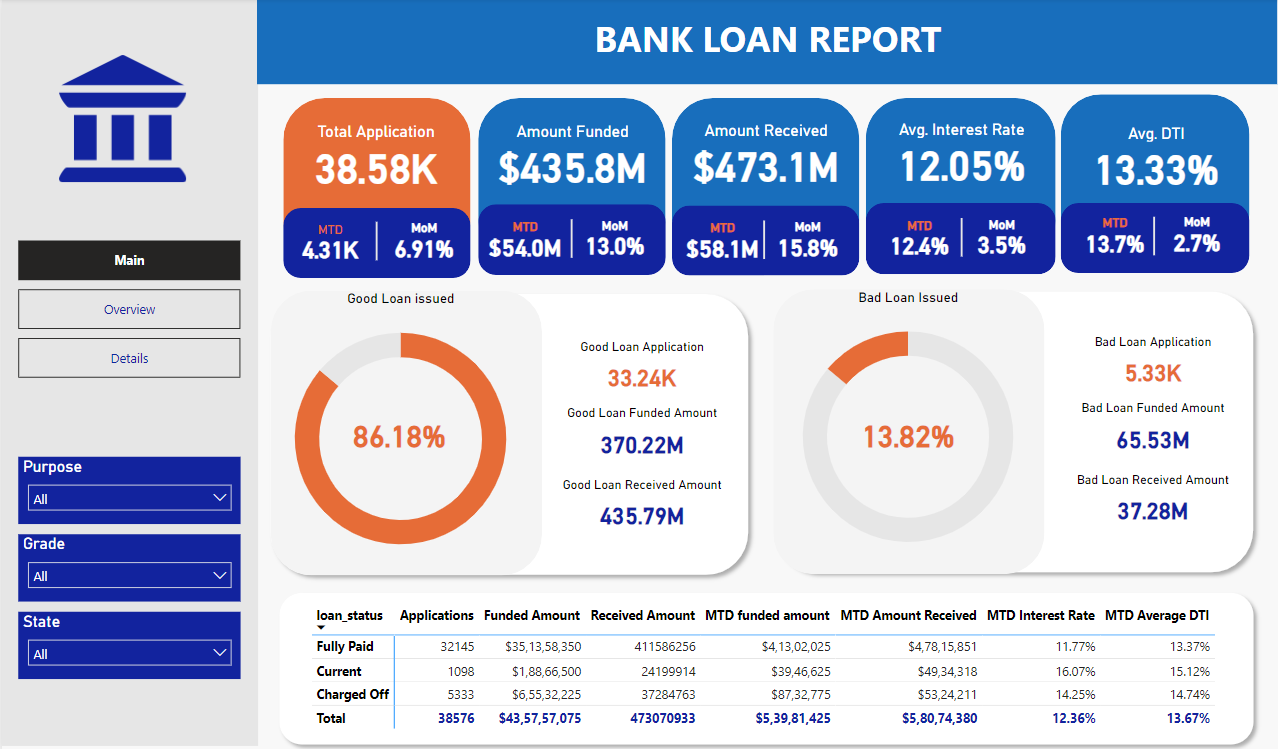

This screenshot's page, from the dashboard's own definition file:
{"tool":"powerbi","page":{"name":"Main","canvas":[1350,800],"ordinal":0},"visuals":[{"type":"shape","box":[809.5,300.8,523.3,315.1],"z":0},{"type":"shape","box":[913.4,105.5,201,171.1],"z":1000},{"type":"shape","box":[815.9,308.1,286.9,301.5],"z":2000},{"type":"shape","box":[1120.2,101.2,199.6,169.7],"z":3000,"group":"g1"},{"type":"shape","box":[913.4,216.7,201,75.6],"z":3000},{"type":"shape","box":[708.5,105.5,198.2,172.5],"z":4000},{"type":"shape","box":[1120.2,216.7,199.6,74.1],"z":5000,"group":"g1"},{"type":"shape","box":[274.8,304.6,523.3,315.1],"z":5000},{"type":"shape","box":[284.3,309.4,286.9,301.5],"z":6000},{"type":"shape","box":[708.5,219.6,198.2,74.1],"z":7000},{"type":"shape","box":[0,0,270.9,791.4],"z":8000},{"type":"shape","box":[270.3,0,1079.4,91.3],"z":9000},{"type":"textbox","box":[601.5,12.5,417.2,63.1],"z":10000},{"type":"shape","box":[503.2,105.5,198.2,172.5],"z":10000,"group":"g2"},{"type":"card","title":"MTD","fields":{"Values":["financial_loan.MTD AMOUNT RECEIVED"]},"box":[718.5,221,88.4,74.1],"z":11000},{"type":"shape","box":[503.2,218.2,198.4,74.9],"z":12000,"group":"g2"},{"type":"shape","box":[284.3,620.2,1048.6,178.5],"z":12000},{"type":"pivotTable","fields":{"Rows":["financial_loan.loan_status"],"Values":["financial_loan.Applications","financial_loan.Funded Amount","financial_loan.Received Amount","financial_loan.MTD funded amount","financial_loan.MTD AMOUNT RECEIVED","financial_loan.MTD INTEREST RATE","financial_loan.MTD AVERAGE DTI"]},"box":[322.2,636.4,968.2,156.8],"z":13000},{"type":"shape","box":[297.9,105.5,198.2,175.4],"z":14000,"group":"g3"},{"type":"card","title":" Amount Received","fields":{"Values":["Sum(financial_loan.total_payment)"]},"box":[722.8,115.5,169.7,104.1],"z":14000},{"type":"image","box":[55.6,55.6,144,144],"z":15000},{"type":"shape","box":[297.9,221.5,198.2,74.1],"z":16000,"group":"g3"},{"type":"pageNavigator","box":[16.8,359.3,235.3,42.8],"z":16000},{"type":"shape","box":[796.4,235.9,20.4,40.8],"z":17000},{"type":"pageNavigator","box":[16.8,308,235.3,42.8],"z":18000},{"type":"pageNavigator","box":[16.8,256.7,235.3,42.8],"z":19000},{"type":"card","title":"MoM","fields":{"Values":["financial_loan.MoM Received amount"]},"box":[806.9,219.6,91.3,74.1],"z":20000},{"type":"card","title":"MTD","fields":{"Values":["financial_loan.MTD LOAN APPLICATION"]},"box":[301.1,221.5,94.1,74.1],"z":20000,"group":"g3"},{"type":"slicer","title":"Purpose","fields":{"Values":["financial_loan.purpose"]},"box":[17.2,485.3,235.4,71.4],"z":21000},{"type":"card","title":"Total Application","fields":{"Values":["CountNonNull(financial_loan.id)"]},"box":[319.3,115.5,154,105.5],"z":22000,"group":"g3"},{"type":"slicer","title":"Grade","fields":{"Values":["financial_loan.grade"]},"box":[17.2,567.3,235.4,71.4],"z":22000},{"type":"card","title":"MTD","fields":{"Values":["financial_loan.MTD funded amount"]},"box":[503.6,218.9,99.2,74.8],"z":23000,"group":"g2"},{"type":"slicer","title":"State","fields":{"Values":["financial_loan.address_state"]},"box":[17.2,649.3,235.4,71.4],"z":23000},{"type":"group","id":"g1","title":"Group 3","box":[1120.2,101.2,199.6,189.6],"z":24000},{"type":"card","title":"Amount Funded ","fields":{"Values":["Sum(financial_loan.loan_amount)"]},"box":[514.6,115.5,175.4,104.1],"z":24000,"group":"g2"},{"type":"card","title":"MTD","fields":{"Values":["financial_loan.MTD INTEREST RATE"]},"box":[925.3,218.2,89.8,74.1],"z":25000},{"type":"card","title":"Avg. Interest Rate","fields":{"Values":["Avg(financial_loan.int_rate)"]},"box":[939.5,114.1,149.7,104.1],"z":26000},{"type":"shape","box":[386.8,236.4,20.4,40.8],"z":26000,"group":"g3"},{"type":"group","id":"g2","title":"Group 6","box":[503.2,105.5,198.4,188.1],"z":27000},{"type":"shape","box":[592,233.8,20.4,40.8],"z":27000,"group":"g2"},{"type":"card","title":"MoM","fields":{"Values":["financial_loan.MoM funded amount"]},"box":[605.9,218.1,82.7,74.1],"z":28000,"group":"g2"},{"type":"shape","box":[1004.6,233,20.4,40.8],"z":28000},{"type":"group","id":"g3","title":"Group 7","box":[297.9,105.5,198.2,190.1],"z":29000},{"type":"card","title":"MoM","fields":{"Values":["financial_loan.MoM Interest rate"]},"box":[1014.3,216.7,87,74.1],"z":30000},{"type":"card","title":"MoM","fields":{"Values":["financial_loan.MoM Application"]},"box":[406.6,220,81.3,74.1],"z":30000,"group":"g3"},{"type":"card","title":"Good Loan Application","fields":{"Values":["financial_loan.GOOD LOAN APPLICATION"]},"box":[564.6,346.6,225.3,97],"z":31000},{"type":"card","title":"MTD","fields":{"Values":["financial_loan.MTD AVERAGE DTI"]},"box":[1134.1,215.3,85.6,74.1],"z":32000,"group":"g1"},{"type":"card","title":"Good Loan Funded Amount","fields":{"Values":["financial_loan.GOOD LOAN Funded Amount"]},"box":[564.6,416.5,225.3,97],"z":32000},{"type":"card","title":"Good Loan  Received  Amount","fields":{"Values":["financial_loan.GOOD LOAN Received Amount"]},"box":[564.6,492.1,225.3,97],"z":33000},{"type":"card","title":"Avg. DTI","fields":{"Values":["Avg(financial_loan.dti)"]},"box":[1133,116.9,175.4,104.1],"z":34000,"group":"g1"},{"type":"card","title":"Bad Loan Application","fields":{"Values":["financial_loan.Bad Loan Application"]},"box":[1103.5,341.3,229.6,95.5],"z":34000},{"type":"card","title":"Bad Loan Funded Amount","fields":{"Values":["financial_loan.Bad Loan Funded Amount"]},"box":[1103.5,411.2,229.6,97],"z":35000},{"type":"shape","box":[1208.2,230.2,20.4,40.8],"z":36000,"group":"g1"},{"type":"card","title":"Bad Loan  Received  Amount","fields":{"Values":["financial_loan.Bad Loan Received"]},"box":[1103.5,486.8,229.6,97],"z":36000},{"type":"donutChart","title":"Bad Loan Issued","fields":{"Y":["financial_loan.GoodLoanPercent","financial_loan.BadLoanPercent"]},"box":[807.9,308.1,301.5,300.2],"z":37000},{"type":"card","title":"MoM","fields":{"Values":["financial_loan.MoM DTI"]},"box":[1219.7,213.8,89.8,74.1],"z":38000,"group":"g1"},{"type":"donutChart","title":"Good Loan issued","fields":{"Y":["financial_loan.GoodLoanPercent","financial_loan.BadLoanPercent"]},"box":[271.1,309.4,301.5,301.5],"z":38000},{"type":"card","fields":{"Values":["financial_loan.GoodLoanPercent"]},"box":[329.3,406,182.5,112.4],"z":39000},{"type":"card","fields":{"Values":["financial_loan.BadLoanPercent"]},"box":[867.4,406,182.5,111.1],"z":40000}]}

Visuals, with their boxes in screenshot pixels (x1, y1, x2, y2), scaled from the page's 1350x800 canvas onto the 1278x749 screenshot:
shape: box=[766, 282, 1262, 577]
shape: box=[865, 99, 1055, 259]
shape: box=[772, 288, 1044, 571]
shape: box=[1060, 95, 1249, 254]
shape: box=[865, 203, 1055, 274]
shape: box=[671, 99, 858, 260]
shape: box=[1060, 203, 1249, 272]
shape: box=[260, 285, 756, 580]
shape: box=[269, 290, 541, 572]
shape: box=[671, 206, 858, 275]
shape: box=[0, 0, 256, 741]
shape: box=[256, 0, 1277, 85]
textbox: box=[569, 12, 964, 71]
shape: box=[476, 99, 664, 260]
"MTD" card: box=[680, 207, 764, 276]
shape: box=[476, 204, 664, 274]
shape: box=[269, 581, 1262, 748]
pivotTable - financial_loan.loan_status x financial_loan.Applications: box=[305, 596, 1222, 743]
shape: box=[282, 99, 470, 263]
" Amount Received" card: box=[684, 108, 845, 206]
image: box=[53, 52, 189, 187]
shape: box=[282, 207, 470, 277]
pageNavigator: box=[16, 336, 239, 376]
shape: box=[754, 221, 773, 259]
pageNavigator: box=[16, 288, 239, 328]
pageNavigator: box=[16, 240, 239, 280]
"MoM" card: box=[764, 206, 850, 275]
"MTD" card: box=[285, 207, 374, 277]
"Purpose" slicer: box=[16, 454, 239, 521]
"Total Application" card: box=[302, 108, 448, 207]
"Grade" slicer: box=[16, 531, 239, 598]
"MTD" card: box=[477, 205, 571, 275]
"State" slicer: box=[16, 608, 239, 675]
"Group 3" group: box=[1060, 95, 1249, 272]
"Amount Funded " card: box=[487, 108, 653, 206]
"MTD" card: box=[876, 204, 961, 274]
"Avg. Interest Rate" card: box=[889, 107, 1031, 204]
shape: box=[366, 221, 385, 260]
"Group 6" group: box=[476, 99, 664, 275]
shape: box=[560, 219, 580, 257]
"MoM" card: box=[574, 204, 652, 274]
shape: box=[951, 218, 970, 256]
"Group 7" group: box=[282, 99, 470, 277]
"MoM" card: box=[960, 203, 1043, 272]
"MoM" card: box=[385, 206, 462, 275]
"Good Loan Application" card: box=[534, 325, 748, 415]
"MTD" card: box=[1074, 202, 1155, 271]
"Good Loan Funded Amount" card: box=[534, 390, 748, 481]
"Good Loan  Received  Amount" card: box=[534, 461, 748, 552]
"Avg. DTI" card: box=[1073, 109, 1239, 207]
"Bad Loan Application" card: box=[1045, 320, 1262, 409]
"Bad Loan Funded Amount" card: box=[1045, 385, 1262, 476]
shape: box=[1144, 216, 1163, 254]
"Bad Loan  Received  Amount" card: box=[1045, 456, 1262, 547]
"Bad Loan Issued" donutChart: box=[765, 288, 1050, 570]
"MoM" card: box=[1155, 200, 1240, 270]
"Good Loan issued" donutChart: box=[257, 290, 542, 572]
card - financial_loan.GoodLoanPercent: box=[312, 380, 485, 485]
card - financial_loan.BadLoanPercent: box=[821, 380, 994, 484]
